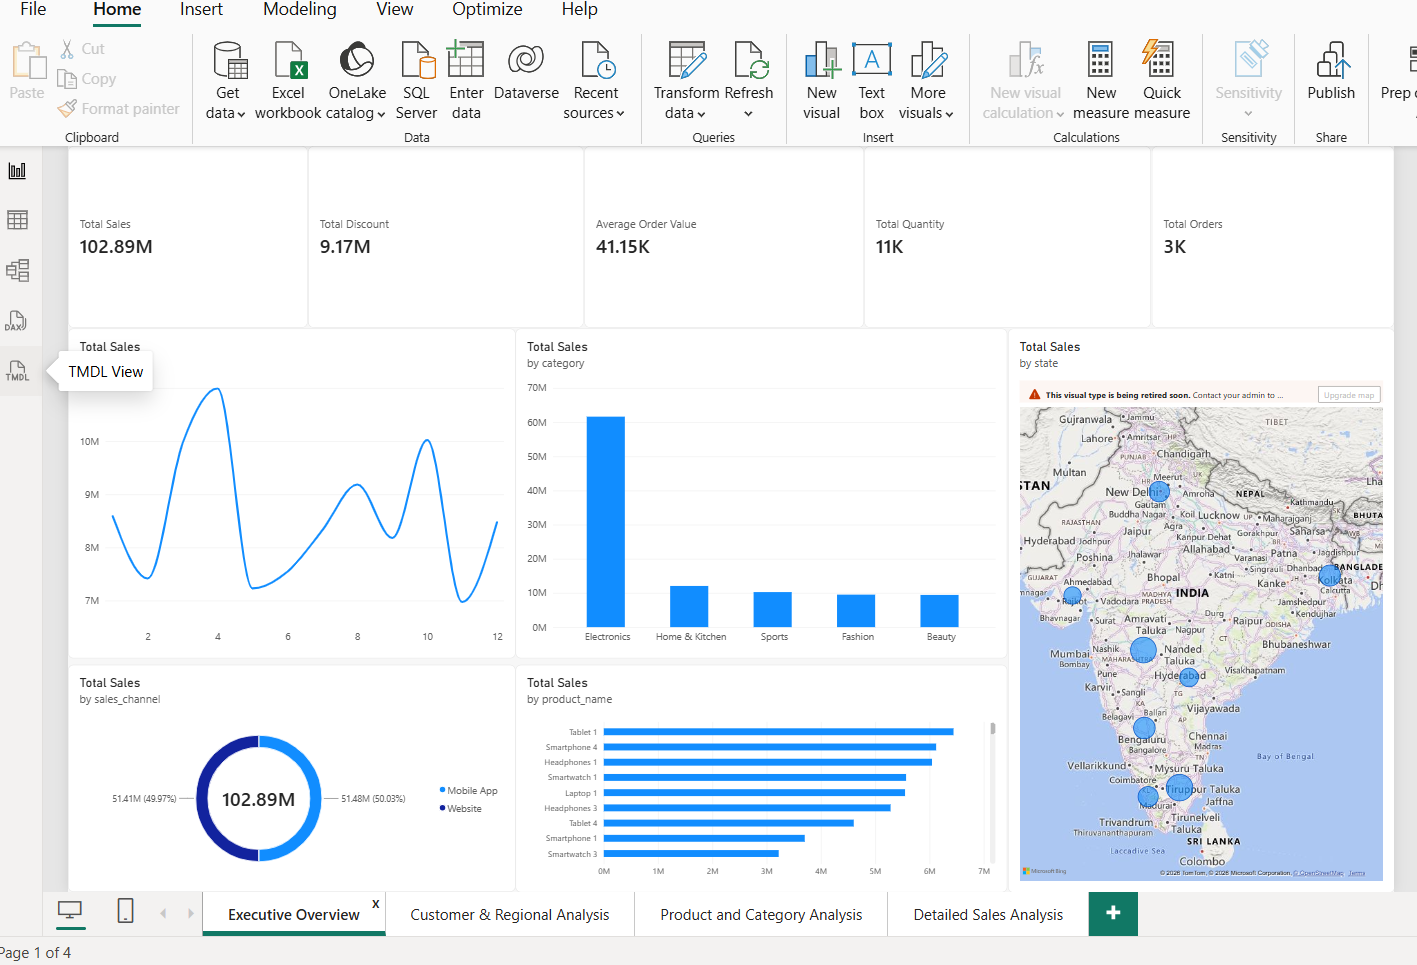

What the dashboard file says about the page in this screenshot:
{"tool":"powerbi","page":{"name":"Executive Overview","canvas":[1920,1080],"ordinal":0},"visuals":[{"type":"cardVisual","fields":{"Data":["DAX Measure.Total Sales"]},"box":[0,0,347.9,263.5],"z":0},{"type":"cardVisual","fields":{"Data":["DAX Measure.Total Discount"]},"box":[347.9,0,399.3,263.5],"z":1000},{"type":"cardVisual","fields":{"Data":["DAX Measure.Average Order Value"]},"box":[747.2,0,405.5,263.5],"z":2000},{"type":"cardVisual","fields":{"Data":["DAX Measure.Total Quantity"]},"box":[1152.7,0,415.8,263.5],"z":3000},{"type":"cardVisual","fields":{"Data":["DAX Measure.Total Orders"]},"box":[1568.4,0,352,263.5],"z":4000},{"type":"lineChart","fields":{"Category":["ecommerce_sal_analysis.month"],"Y":["DAX Measure.Total Sales"]},"box":[0,263.5,648.4,477.5],"z":5000},{"type":"clusteredColumnChart","fields":{"Category":["ecommerce_sal_analysis.category"],"Y":["DAX Measure.Total Sales"]},"box":[648.4,263.5,712.2,477.5],"z":6000},{"type":"donutChart","fields":{"Category":["ecommerce_sal_analysis.sales_channel"],"Y":["DAX Measure.Total Sales"]},"box":[0,751,648,329],"z":7000},{"type":"barChart","fields":{"Category":["ecommerce_sal_analysis.product_name"],"Y":["DAX Measure.Total Sales"]},"box":[648.4,751.3,712.2,329.3],"z":8000},{"type":"map","fields":{"Category":["ecommerce_sal_analysis.state"],"Size":["DAX Measure.Total Sales"]},"box":[1360.6,263.5,559.9,817.2],"z":9000}]}

Visuals, with their boxes on the page's 1920x1080 design canvas (x1, y1, x2, y2). These are canvas units, not pixel positions in the 1417x965 screenshot, which may show the page scaled, cropped or inside an application window:
cardVisual - DAX Measure.Total Sales: bbox(0, 0, 348, 264)
cardVisual - DAX Measure.Total Discount: bbox(348, 0, 747, 264)
cardVisual - DAX Measure.Average Order Value: bbox(747, 0, 1153, 264)
cardVisual - DAX Measure.Total Quantity: bbox(1153, 0, 1568, 264)
cardVisual - DAX Measure.Total Orders: bbox(1568, 0, 1920, 264)
lineChart - ecommerce_sal_analysis.month x DAX Measure.Total Sales: bbox(0, 264, 648, 741)
clusteredColumnChart - ecommerce_sal_analysis.category x DAX Measure.Total Sales: bbox(648, 264, 1361, 741)
donutChart - ecommerce_sal_analysis.sales_channel x DAX Measure.Total Sales: bbox(0, 751, 648, 1080)
barChart - ecommerce_sal_analysis.product_name x DAX Measure.Total Sales: bbox(648, 751, 1361, 1081)
map - ecommerce_sal_analysis.state x DAX Measure.Total Sales: bbox(1361, 264, 1920, 1081)
